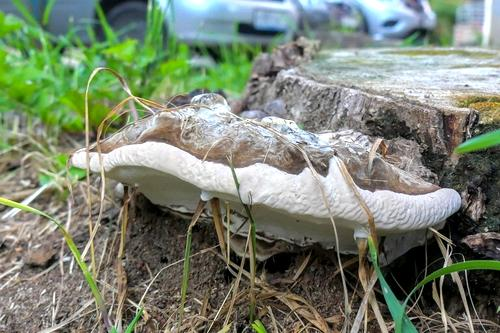Ganoderma - Fruit Body: (71, 90, 461, 277)
